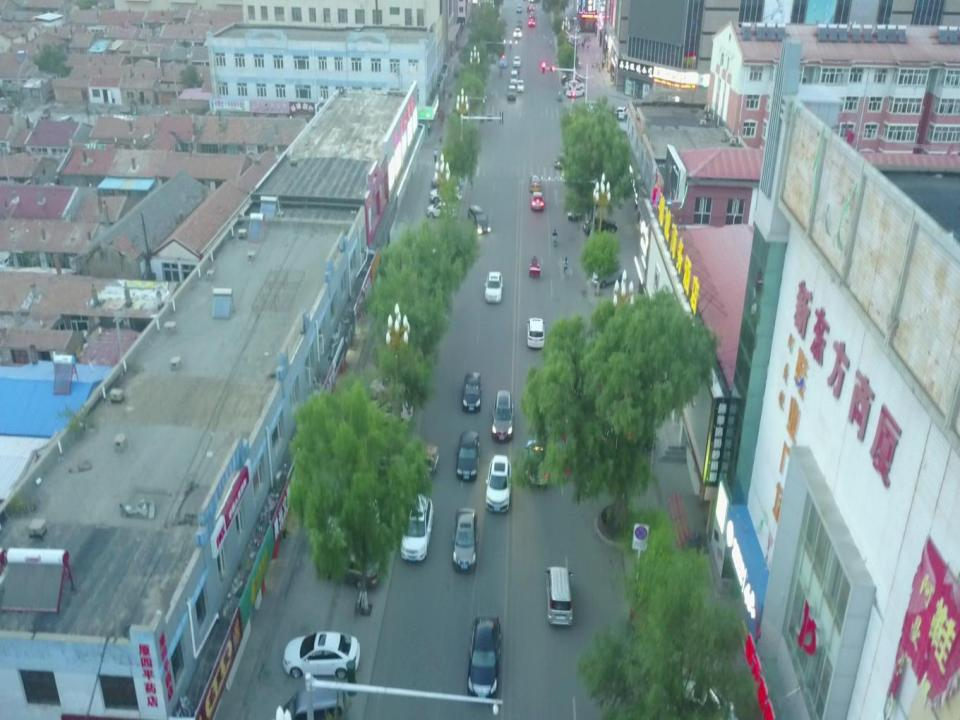car: (283, 632, 360, 678), (670, 674, 734, 720), (467, 616, 501, 702), (320, 545, 380, 590), (402, 492, 433, 562), (453, 508, 477, 573), (486, 454, 510, 512), (457, 428, 480, 481), (368, 399, 412, 425), (491, 390, 513, 441), (371, 378, 413, 402), (528, 441, 548, 486), (462, 371, 482, 413), (583, 218, 618, 239), (592, 265, 624, 287), (468, 206, 490, 234), (430, 184, 463, 202), (484, 271, 503, 302), (527, 317, 545, 348), (426, 202, 457, 220), (568, 204, 596, 220), (431, 173, 463, 187), (586, 100, 606, 115), (530, 193, 544, 212), (614, 106, 630, 121), (562, 74, 582, 86), (555, 154, 568, 170), (529, 174, 541, 191), (566, 87, 585, 97), (565, 80, 585, 89), (507, 84, 517, 100), (510, 70, 518, 86), (512, 56, 522, 68), (498, 55, 507, 68), (517, 79, 524, 93)
van: (274, 686, 346, 720), (544, 566, 571, 626)
